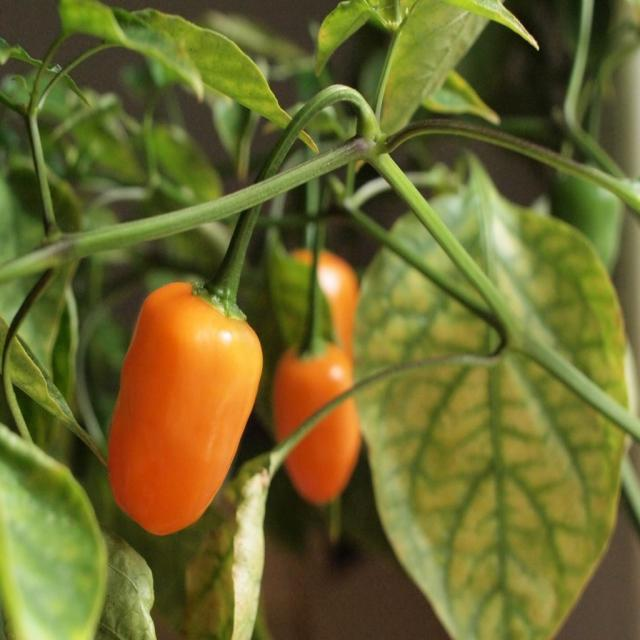Bell pepper: (110, 278, 264, 540), (274, 339, 364, 505), (292, 245, 357, 355)
